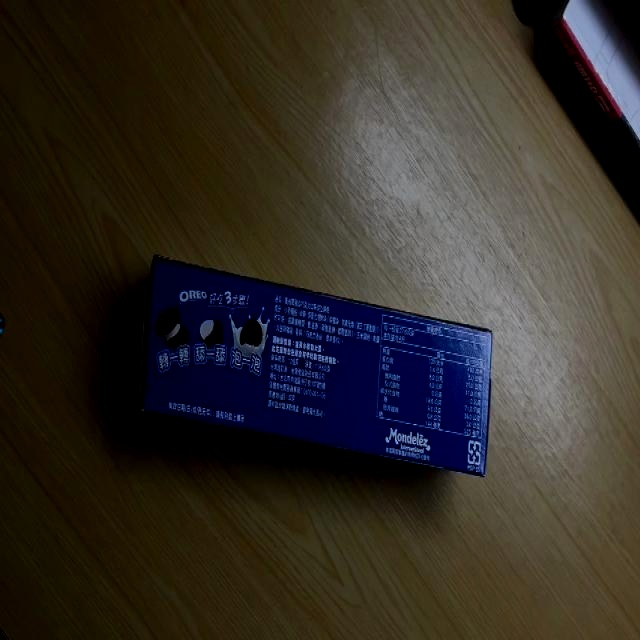Oreo: (137, 254, 493, 477)
